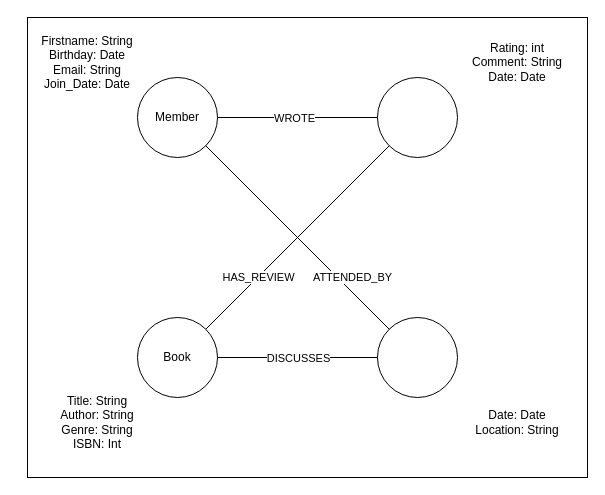
The diagram is 605 pixels wide and 495 high, and some of its shapes have lost their labels. The shapes that lost their labels are listed below. From the top down, each one's centre as x and y in pixels, then its label:
At (x=417, y=117): "Review".
At (x=417, y=357): "Meeting".
